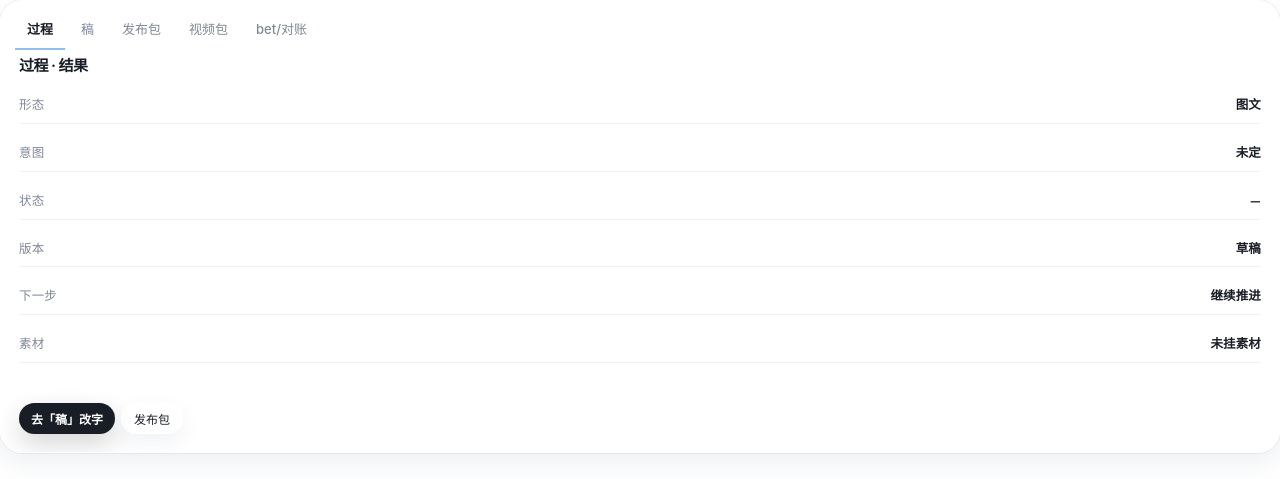
Test: ArtifactPane › starts on the process tab and links into the draft and publish tabs
Expected: the text "过程 · 结果" is shown, [19,56,88,75]
Expected: the text "图文" is shown, [1236,96,1261,115]
Step 1. Click the button "去「稿」改字" → (67, 418), box [19,403,115,434]
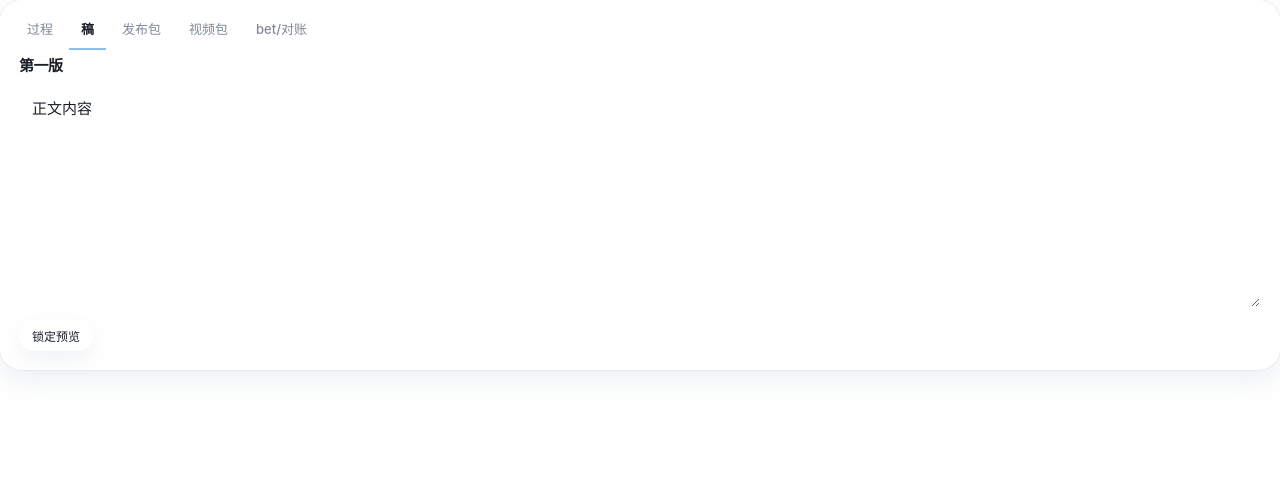
Result: the text box named "稿正文" holds "正文内容" at [19,88,1261,308]
Step 2. Click the tab "发布包" → (142, 30), box [110,11,173,50]
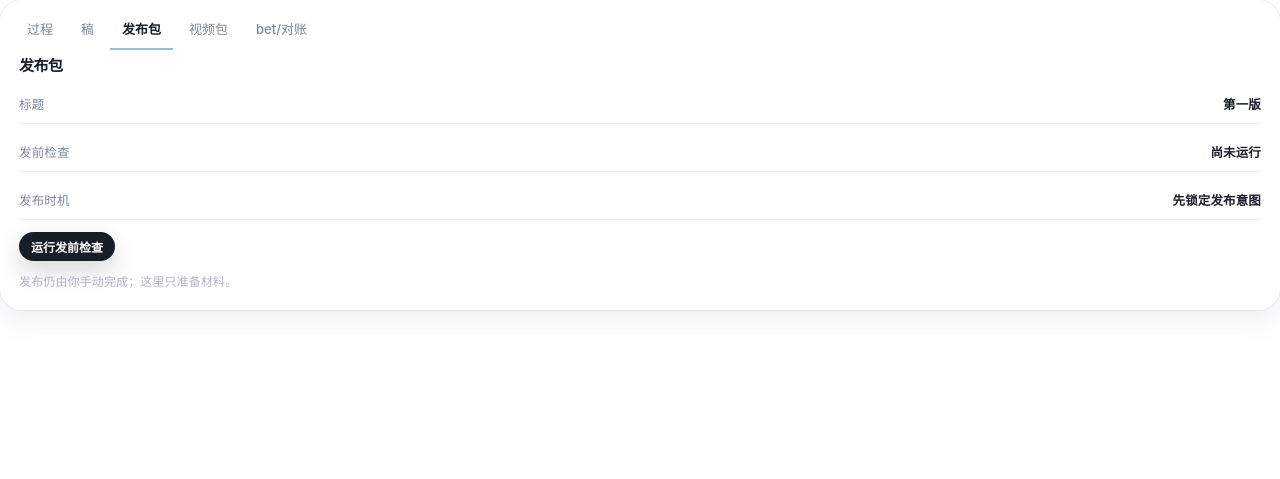
Result: the text "发前检查" is shown at [19,144,70,163]
Result: the text "尚未运行" is shown at [1210,144,1261,163]
Result: the text "先锁定发布意图" is shown at [1173,192,1261,211]
